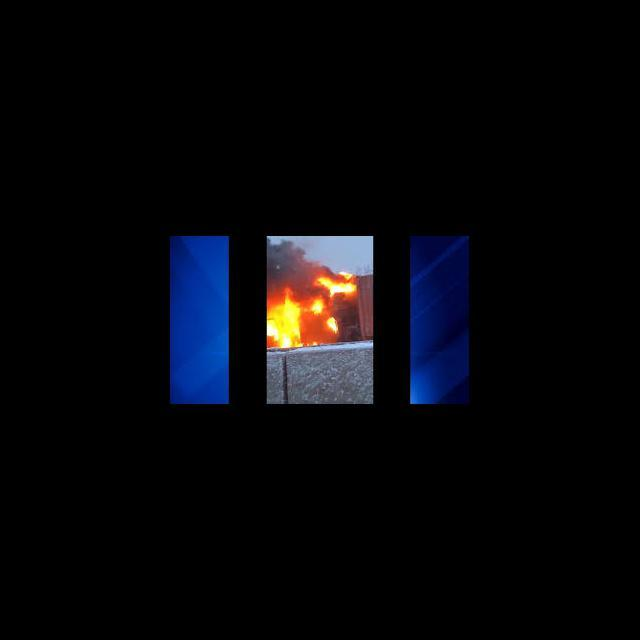Fire: (268, 286, 302, 350), (317, 264, 363, 296), (325, 316, 344, 338), (306, 296, 324, 316), (304, 337, 324, 345)
